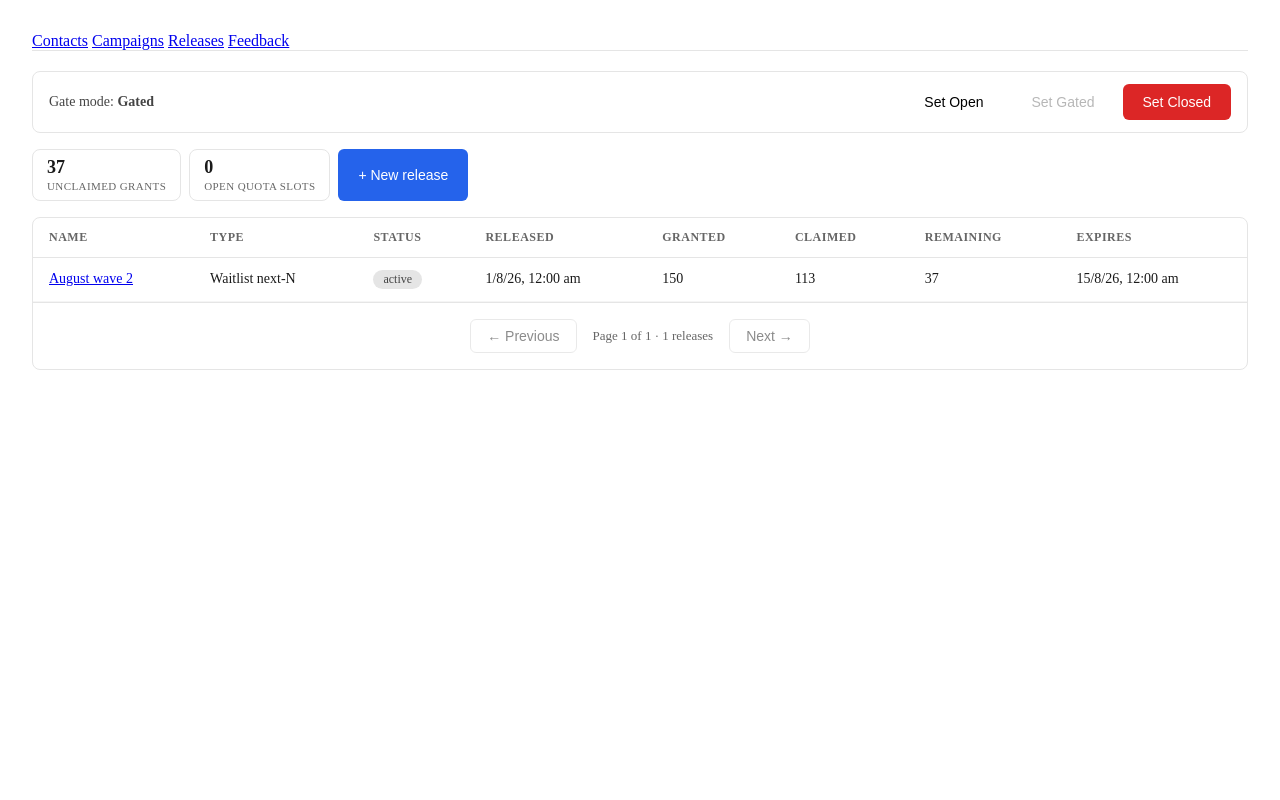
ReleasesView — gate-mode controls (admin-only) › switching to open opens a consequence-confirm modal with the open copy
Click the button with test id "gate-btn-open" at (954, 102), box [904,84,1004,120]
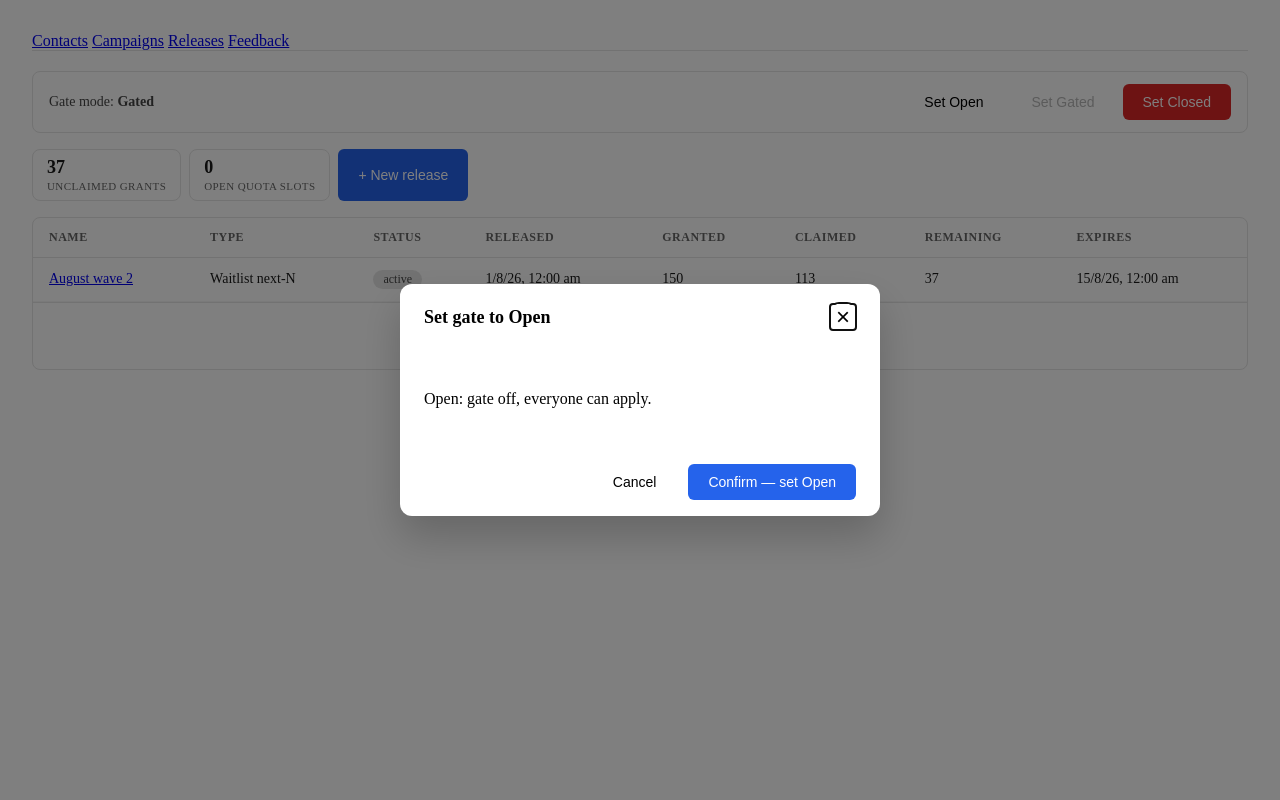
Result: the text "Open: gate off, everyone can apply." is shown at [424,390,652,407]
